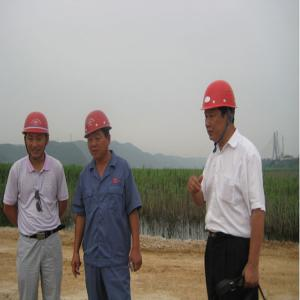red: (201, 80, 239, 143), (84, 108, 112, 162), (23, 110, 52, 162)
